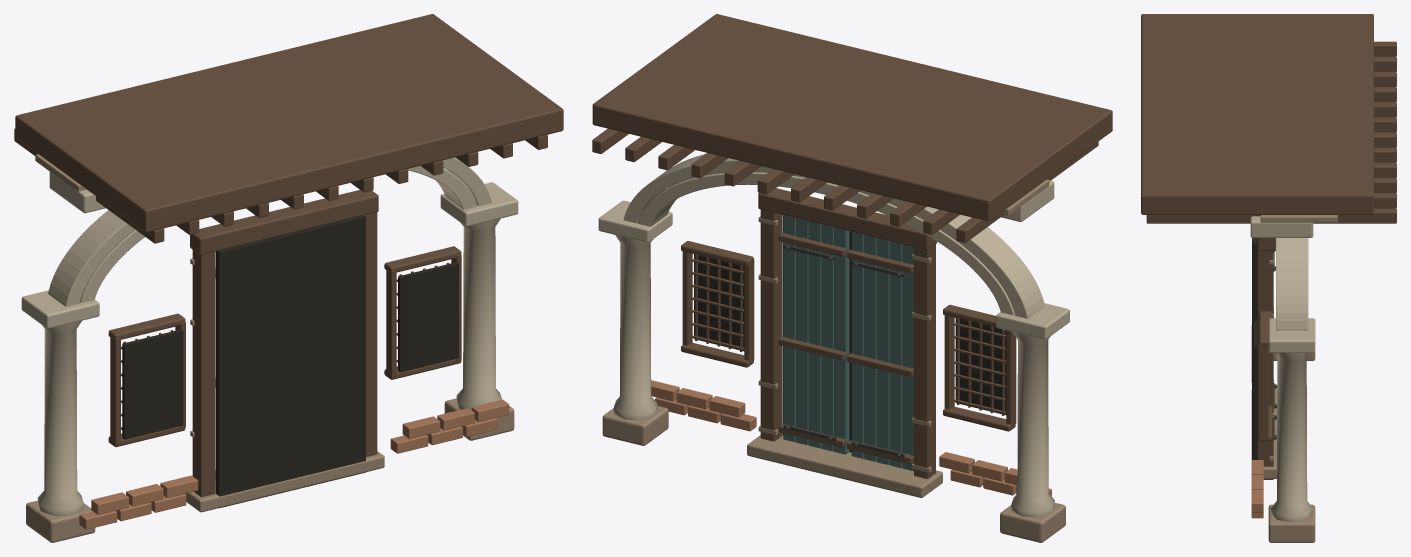
Rendered from courtyard_bay.glb.
The picture shows the model from 3 angles, left to right: view 1: azimuth 30°, elevation 25°; view 2: azimuth 150°, elevation 25°; view 3: azimuth 270°, elevation 25°; orthographic projection. The views are drawn at different scales.
Parts seen in each view (by area): view 1: CourtyardBay; view 2: CourtyardBay; view 3: CourtyardBay.
Part boxes in pixels (x1=…): CourtyardBay: x1=14, y1=14, x2=563, y2=542; CourtyardBay: x1=592, y1=14, x2=1112, y2=542; CourtyardBay: x1=1141, y1=14, x2=1396, y2=542.
Bounding box in the file's own units: 4.79 × 3.69 × 2.52.
